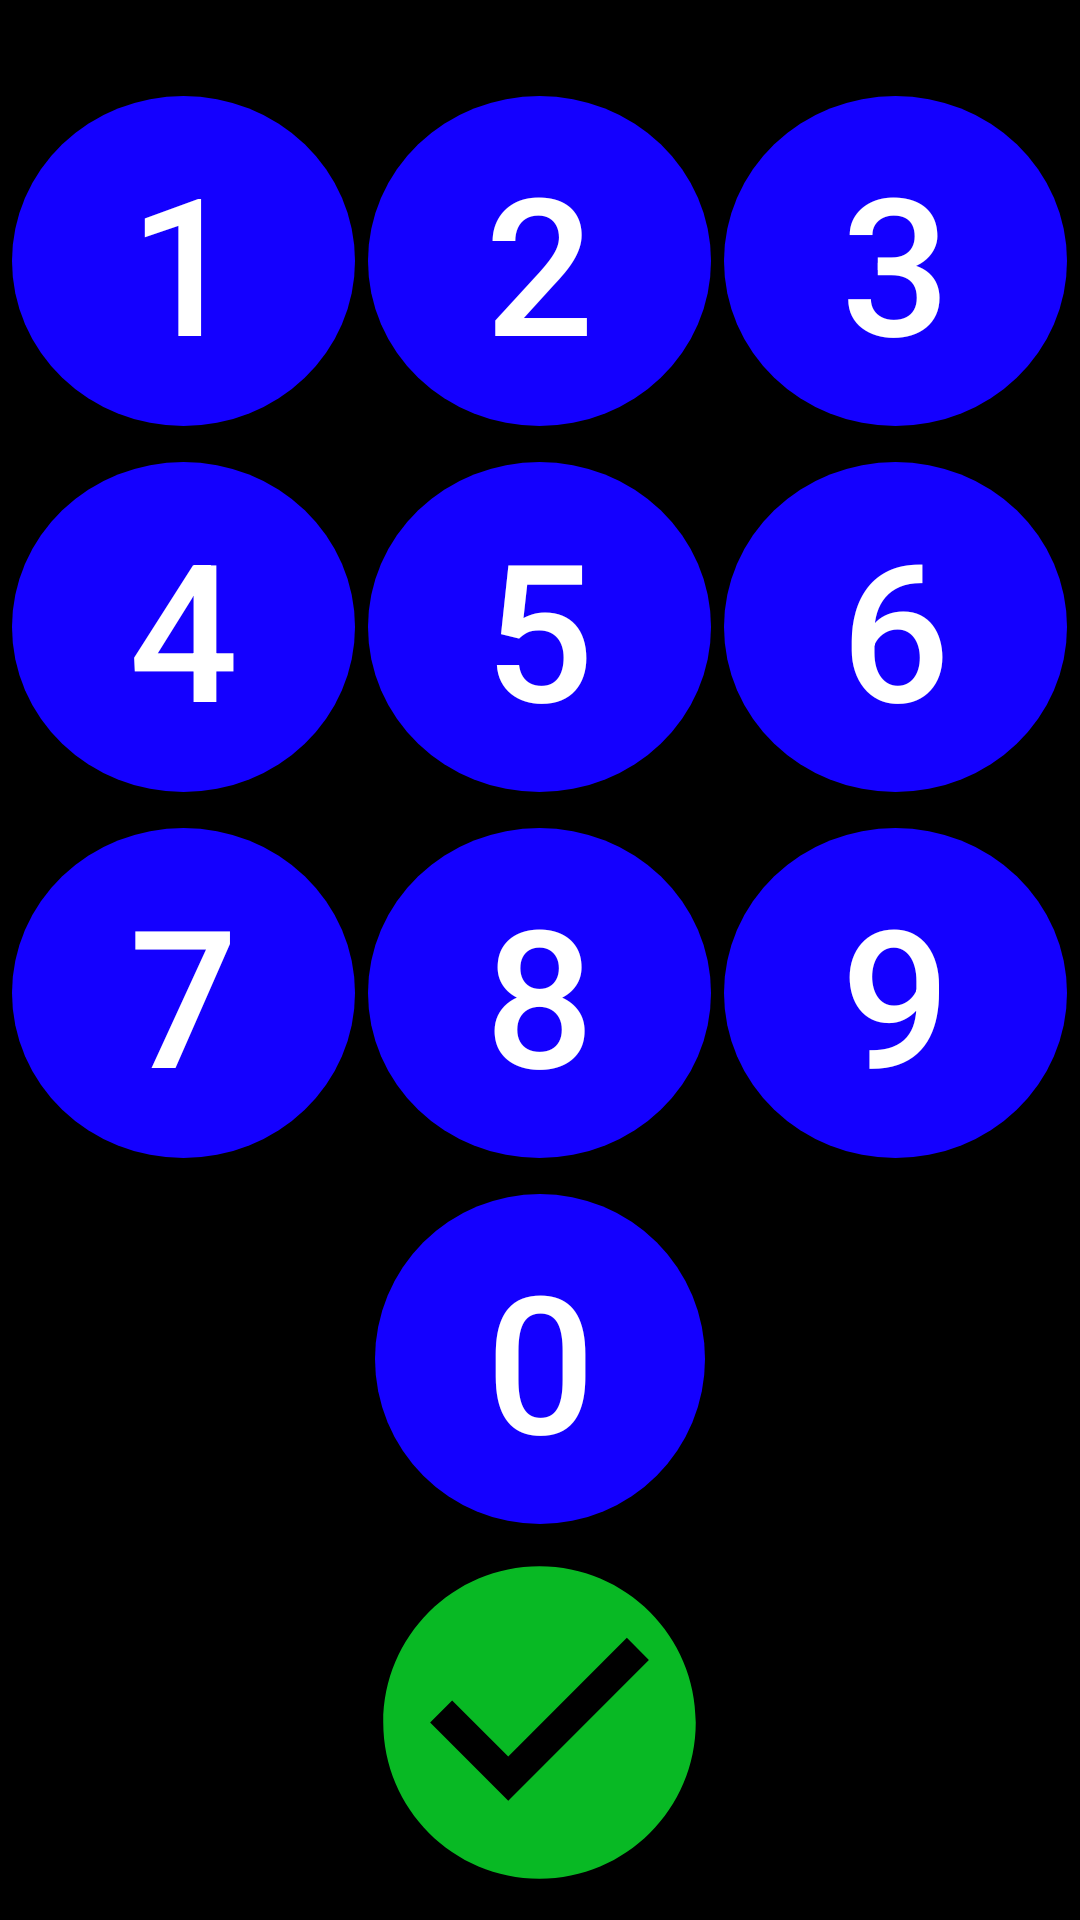

Screen size 1080x1920. Icon name, then its center in pixels as (x=x, y=y):
check: (x=539, y=1722)
